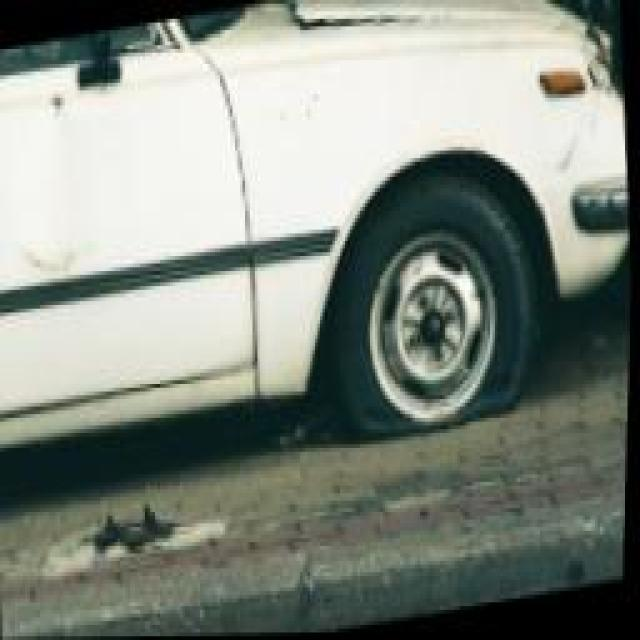Bonnet: (552, 8, 625, 114)
Door: (8, 203, 130, 330)
